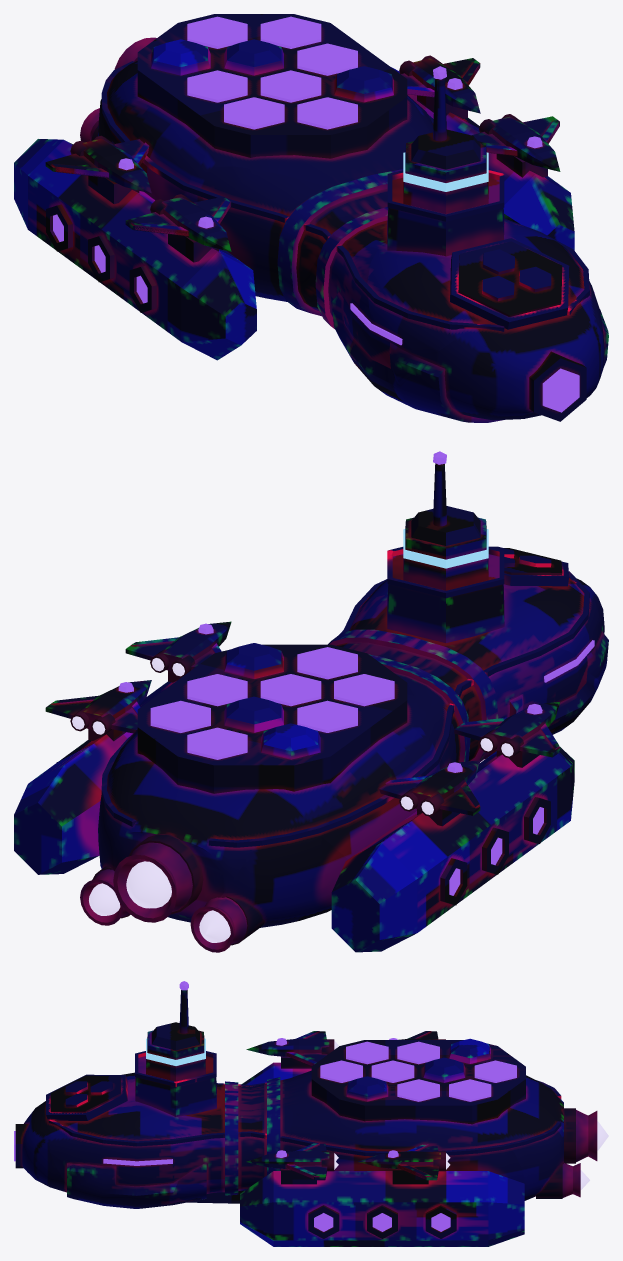
The model's file is hive_wreck.glb.
3 views of the same model, one above another, from view 1: azimuth 30°, elevation 25°; view 2: azimuth 150°, elevation 25°; view 3: azimuth 270°, elevation 25° (orthographic). The views are drawn at different scales.
Visible parts, largest first — view 1: hive_wreck_06, hive_wreck_14, hive_wreck_10, hive_wreck_08, hive_wreck_05, hive_wreck_04, hive_wreck_13, hive_wreck_15, hive_wreck_11, hive_wreck_02, hive_wreck_17, hive_wreck_09 (+5 smaller); view 2: hive_wreck_05, hive_wreck_01, hive_wreck_04, hive_wreck_15, hive_wreck_12, hive_wreck_10, hive_wreck_06, hive_wreck_18, hive_wreck_14, hive_wreck_13, hive_wreck_11, hive_wreck_17 (+5 smaller); view 3: hive_wreck_09, hive_wreck_02, hive_wreck_01, hive_wreck_17, hive_wreck_00, hive_wreck_19, hive_wreck_04, hive_wreck_18, hive_wreck_10, hive_wreck_16, hive_wreck_15, hive_wreck_08 (+4 smaller).
Part boxes in pixels (x1,y1,x2,y2): hive_wreck_06: (125, 166, 335, 357); hive_wreck_14: (363, 184, 552, 384); hive_wreck_10: (198, 67, 409, 187); hive_wreck_08: (400, 293, 604, 422); hive_wreck_05: (14, 83, 208, 252); hive_wreck_04: (332, 66, 504, 249); hive_wreck_13: (56, 182, 221, 360); hive_wreck_15: (101, 16, 262, 117); hive_wreck_11: (229, 236, 412, 407); hive_wreck_02: (395, 76, 559, 185); hive_wreck_17: (253, 14, 409, 96); hive_wreck_09: (492, 180, 608, 367); hive_wreck_05: (321, 712, 480, 935); hive_wreck_01: (80, 733, 249, 937); hive_wreck_04: (361, 451, 504, 678); hive_wreck_15: (177, 698, 351, 853); hive_wreck_12: (189, 836, 412, 952); hive_wreck_10: (235, 643, 423, 732); hive_wreck_06: (405, 672, 574, 815); hive_wreck_18: (14, 750, 118, 874); hive_wreck_14: (488, 546, 604, 681); hive_wreck_13: (434, 751, 571, 909); hive_wreck_11: (466, 636, 598, 761); hive_wreck_17: (117, 648, 266, 759); hive_wreck_09: (49, 1074, 200, 1208); hive_wreck_02: (258, 1098, 393, 1240); hive_wreck_01: (495, 1074, 608, 1200); hive_wreck_17: (362, 1062, 503, 1154); hive_wreck_00: (160, 1102, 296, 1206); hive_wreck_19: (370, 1143, 464, 1240); hive_wreck_04: (146, 981, 282, 1120); hive_wreck_18: (447, 1135, 526, 1246); hive_wreck_10: (282, 1040, 424, 1115); hive_wreck_16: (240, 1158, 368, 1246); hive_wreck_15: (415, 1038, 550, 1087); hive_wreck_08: (14, 1090, 90, 1202).
Size of the model in its own units: 6.19 by 4.46 by 10.66.
Materials: 14 (10 with a texture image).
